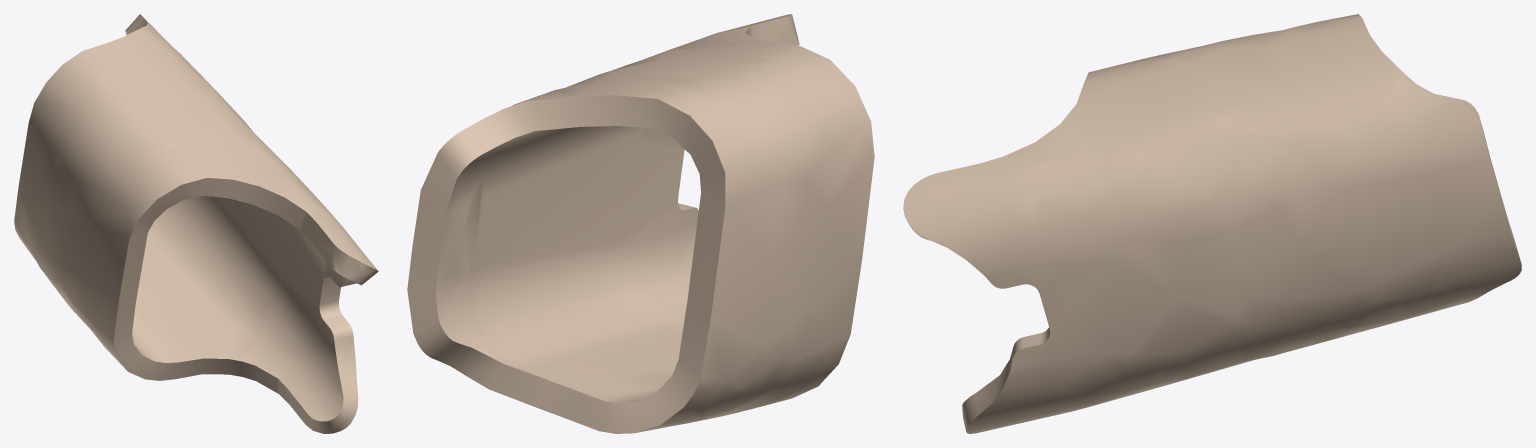
Rendered from l_hand_P_L_1.obj.
3 renders of one model, left to right at view 1: azimuth 30°, elevation 25°; view 2: azimuth 150°, elevation 25°; view 3: azimuth 270°, elevation 25°, orthographic. The views are drawn at different scales.
Size of the model in its own units: 19.67 by 29.19 by 45.31.
